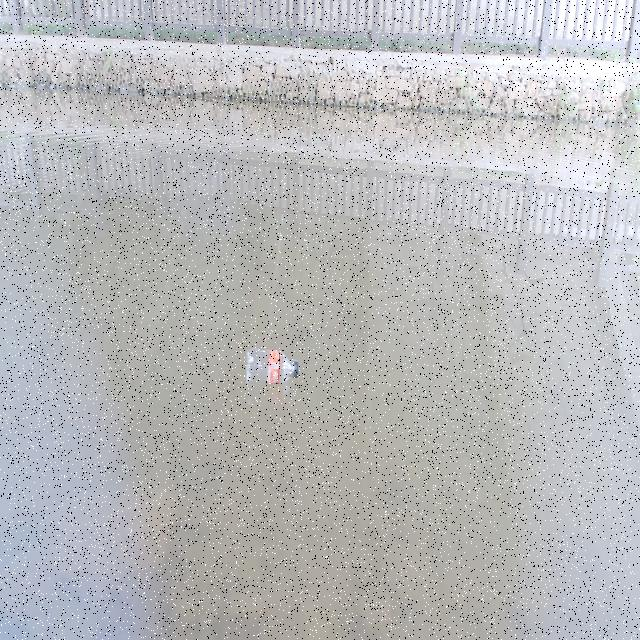Bottle: (243, 343, 301, 390)
